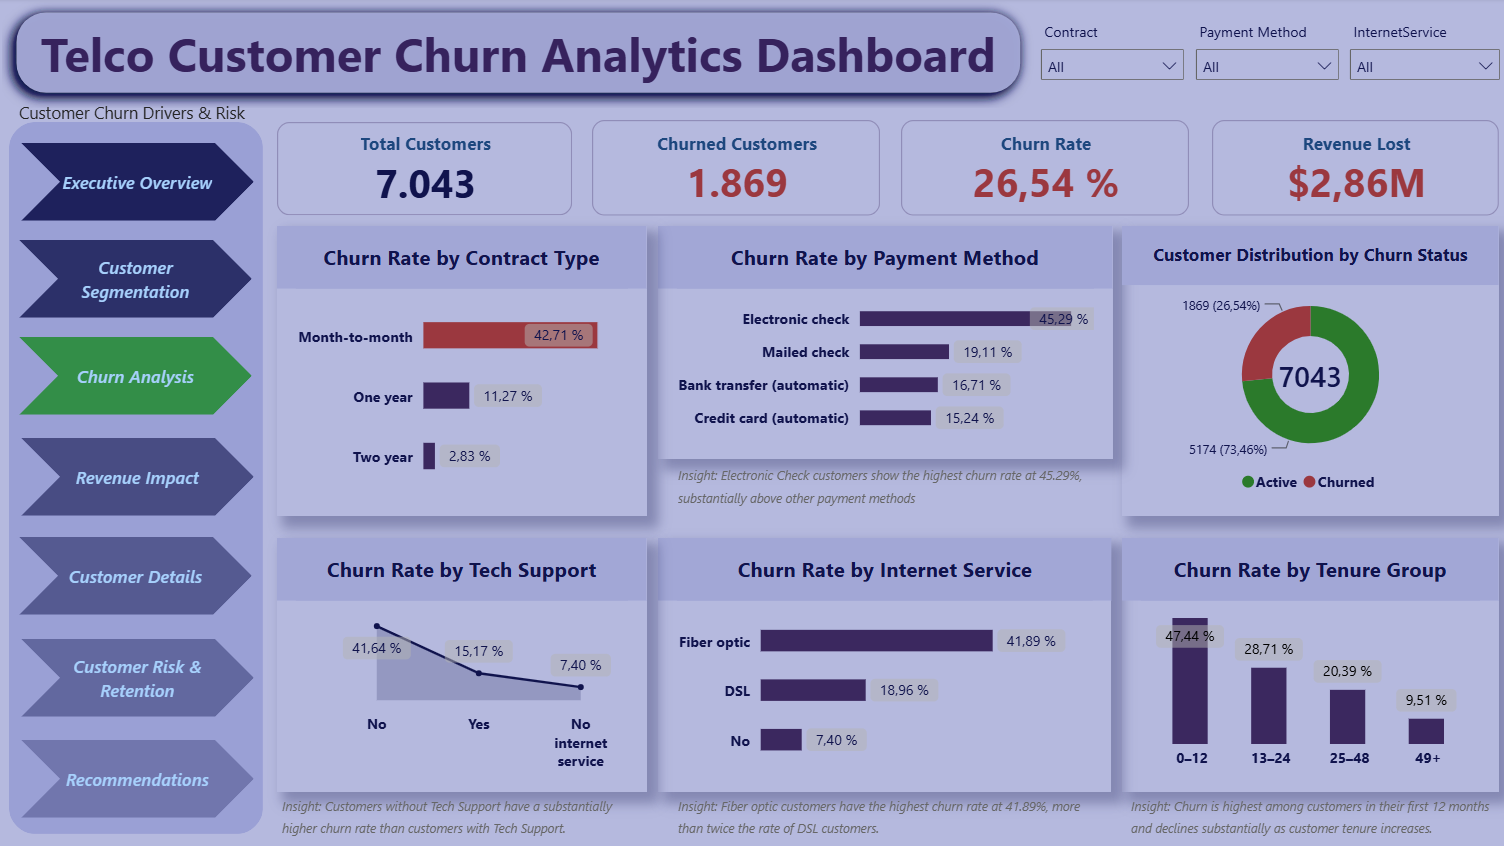

This screenshot's page, from the dashboard's own definition file:
{"tool":"powerbi","page":{"name":"Churn Analysis","canvas":[1280,720],"ordinal":2},"visuals":[{"type":"shape","title":"Telco Customer Churn Analytics Dashboard","box":[5.8,0,874.7,92.5],"z":0},{"type":"bookmarkNavigator","box":[585.5,46.3,14.5,4.3],"z":1000},{"type":"shape","box":[11.9,105,215.2,603.1],"z":1000,"group":"g2"},{"type":"cardVisual","fields":{"Data":["_Measures.Churn Rate"]},"box":[767.1,103.2,244.9,81.6],"z":2000},{"type":"shape","box":[20.6,204.6,197.4,65.8],"z":2000,"group":"g3"},{"type":"clusteredBarChart","title":"Churn Rate  by Payment Method","fields":{"Category":["dim DimPayment.PaymentMethod"],"Y":["_Measures.Churn Rate"]},"box":[561.6,193.1,384.6,197.4],"z":3000},{"type":"cardVisual","fields":{"Data":["_Measures.Revenue Lost"]},"box":[1030.9,103.4,243.1,81.9],"z":4000},{"type":"shape","box":[20.6,286.4,197.4,65.8],"z":4000,"group":"g3"},{"type":"slicer","title":"Payment Method","fields":{"Values":["dim DimPayment.PaymentMethod"]},"box":[1012,20,130.9,66.2],"z":5000},{"type":"slicer","title":"Payment Method","fields":{"Values":["dim DimContract.Contract"]},"box":[881.1,20,130.9,66.2],"z":6000},{"type":"group","id":"g1","title":"Group 1","box":[20.6,122.8,198.9,571.5],"z":6000,"group":"g2"},{"type":"shape","box":[22.2,372.7,197.4,65.8],"z":6000,"group":"g3"},{"type":"textbox","box":[20.3,87.2,206.7,23.7],"z":7000},{"type":"clusteredBarChart","title":"Churn Rate by Contract Type","fields":{"Category":["dim DimContract.Contract"],"Y":["_Measures.Churn Rate"]},"box":[238.9,193.1,312.6,245.6],"z":8000},{"type":"slicer","title":"Payment Method","fields":{"Values":["dim DimService.InternetService"]},"box":[1142.9,20,137.1,66.2],"z":9000},{"type":"shape","box":[20.6,456,197.4,65.8],"z":10000,"group":"g3"},{"type":"clusteredBarChart","title":"Churn Rate by Internet Service","fields":{"Category":["dim DimService.InternetService"],"Y":["_Measures.Churn Rate"]},"box":[562,457.7,384.4,215.5],"z":10000},{"type":"donutChart","title":"Customer Distribution by Churn Status","fields":{"Category":["fact FactCustomerChurn.Churn Status"],"Y":["_Measures.Total Customers"]},"box":[954.6,193.1,319.3,245.6],"z":11000},{"type":"cardVisual","fields":{"Data":["Measures Table.Total Customers"]},"box":[238.8,105.2,250.8,79.3],"z":12000},{"type":"shape","box":[22.2,628.4,197.4,65.8],"z":12000,"group":"g3"},{"type":"lineChart","title":"Churn Rate by Tech Support","fields":{"Category":["dim DimService.TechSupport"],"Y":["_Measures.Churn Rate"]},"box":[238.8,457.7,312.9,215.5],"z":13000},{"type":"clusteredColumnChart","title":"Churn Rate by Tenure Group","fields":{"Category":["dim DimCustomer.Tenure Group"],"Y":["_Measures.Churn Rate"]},"box":[955,457.7,318.9,215.5],"z":14000},{"type":"cardVisual","fields":{"Data":["_Measures.Churned Customers"]},"box":[506,103.4,244.9,81.6],"z":15000},{"type":"textbox","box":[578.5,396.4,351.5,42.4],"z":16000},{"type":"textbox","box":[243.1,673.2,304.3,40.5],"z":17000},{"type":"textbox","box":[578.4,673.2,351.7,40.5],"z":18000},{"type":"shape","box":[22.2,542.2,197.4,65.8],"z":19000,"group":"g3"},{"type":"textbox","box":[961.9,673.2,304.3,40.5],"z":19000},{"type":"shape","box":[22.2,122.8,197.4,65.8],"z":19500,"group":"g1"},{"type":"group","id":"g2","title":"Group 3","box":[11.9,105,215.2,603.1],"z":20000},{"type":"group","id":"g3","title":"Group 2","box":[20.6,204.6,198.9,489.6],"z":21001,"group":"g1"}]}

Visuals, with their boxes in screenshot pixels (x1, y1, x2, y2), scaled from the page's 1280x720 canvas onto the 1504x846 screenshot:
"Telco Customer Churn Analytics Dashboard" shape: bbox=(7, 0, 1035, 109)
bookmarkNavigator: bbox=(688, 54, 705, 59)
shape: bbox=(14, 123, 267, 832)
cardVisual - _Measures.Churn Rate: bbox=(901, 121, 1189, 217)
shape: bbox=(24, 240, 256, 318)
"Churn Rate  by Payment Method" clusteredBarChart: bbox=(660, 227, 1112, 459)
cardVisual - _Measures.Revenue Lost: bbox=(1211, 121, 1497, 218)
shape: bbox=(24, 337, 256, 414)
"Payment Method" slicer: bbox=(1189, 24, 1343, 101)
"Payment Method" slicer: bbox=(1035, 24, 1189, 101)
"Group 1" group: bbox=(24, 144, 258, 816)
shape: bbox=(26, 438, 258, 515)
textbox: bbox=(24, 102, 267, 130)
"Churn Rate by Contract Type" clusteredBarChart: bbox=(281, 227, 648, 515)
"Payment Method" slicer: bbox=(1343, 24, 1503, 101)
shape: bbox=(24, 536, 256, 613)
"Churn Rate by Internet Service" clusteredBarChart: bbox=(660, 538, 1112, 791)
"Customer Distribution by Churn Status" donutChart: bbox=(1122, 227, 1497, 515)
cardVisual - Measures Table.Total Customers: bbox=(281, 124, 575, 217)
shape: bbox=(26, 738, 258, 816)
"Churn Rate by Tech Support" lineChart: bbox=(281, 538, 648, 791)
"Churn Rate by Tenure Group" clusteredColumnChart: bbox=(1122, 538, 1497, 791)
cardVisual - _Measures.Churned Customers: bbox=(595, 121, 882, 217)
textbox: bbox=(680, 466, 1093, 516)
textbox: bbox=(286, 791, 643, 839)
textbox: bbox=(680, 791, 1093, 839)
shape: bbox=(26, 637, 258, 714)
textbox: bbox=(1130, 791, 1488, 839)
shape: bbox=(26, 144, 258, 222)
"Group 3" group: bbox=(14, 123, 267, 832)
"Group 2" group: bbox=(24, 240, 258, 816)
